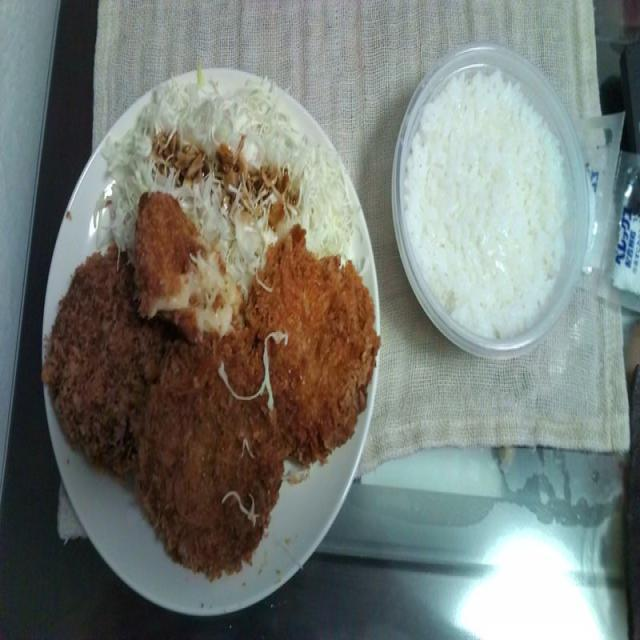Rice: (393, 65, 573, 328)
